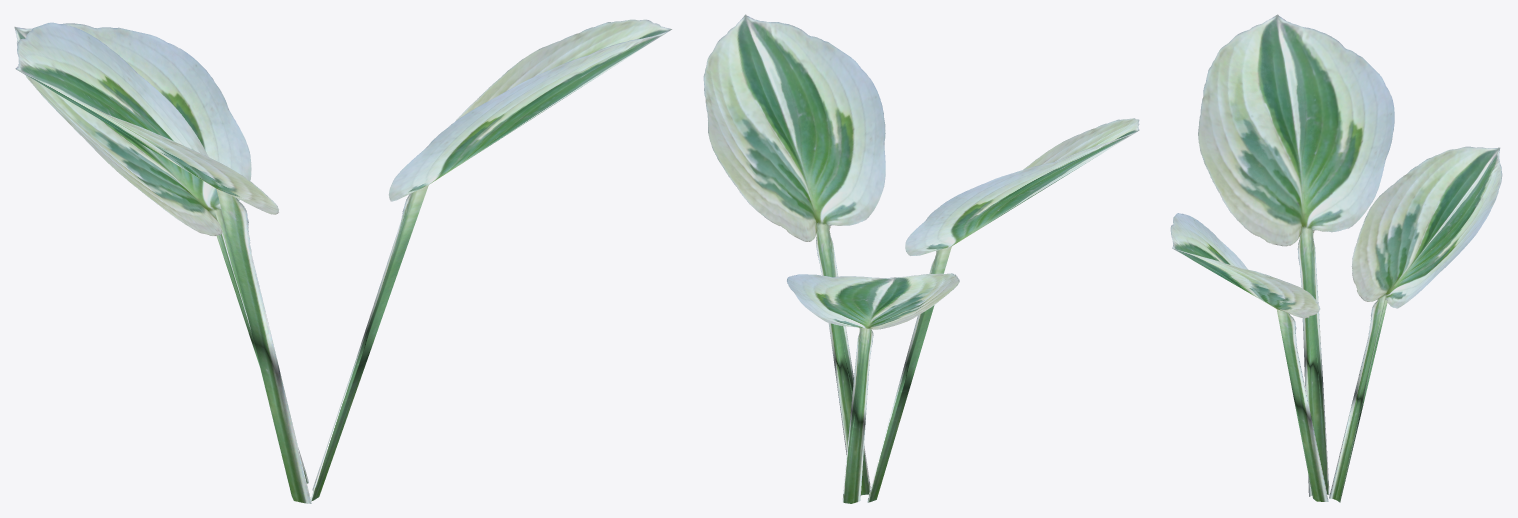
File: plant_small_wg_01J.fbx
3 views of the same model, side by side, from view 1: azimuth 30°, elevation 25°; view 2: azimuth 150°, elevation 25°; view 3: azimuth 270°, elevation 25° (orthographic). The views are drawn at different scales.
Visible parts, largest first — view 1: plant_small_wg_01J; view 2: plant_small_wg_01J; view 3: plant_small_wg_01J.
Part boxes in pixels (x1,y1,x2,y2): plant_small_wg_01J: [14, 19, 671, 503]; plant_small_wg_01J: [703, 14, 1139, 503]; plant_small_wg_01J: [1170, 14, 1502, 502].
Size of the model in its own units: 42.61 by 36.43 by 29.56.
